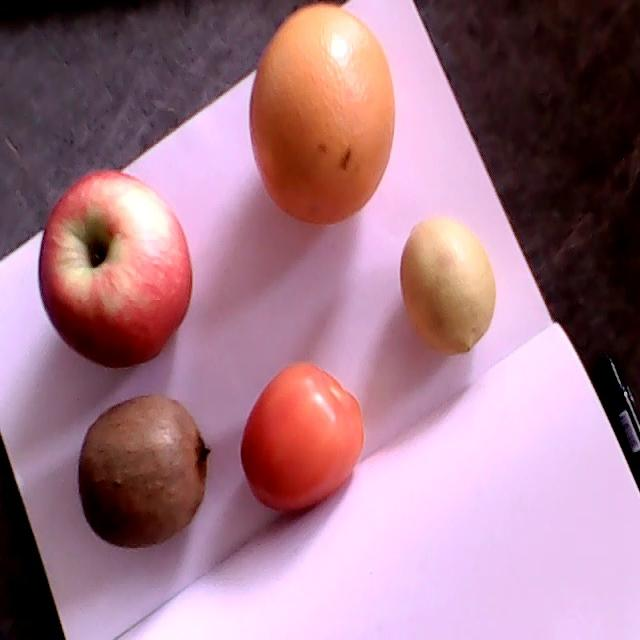apple: (38, 171, 193, 367)
kiwi: (77, 396, 211, 549)
lemon: (400, 218, 495, 353)
orange: (250, 6, 395, 226)
tomato: (240, 362, 364, 510)
